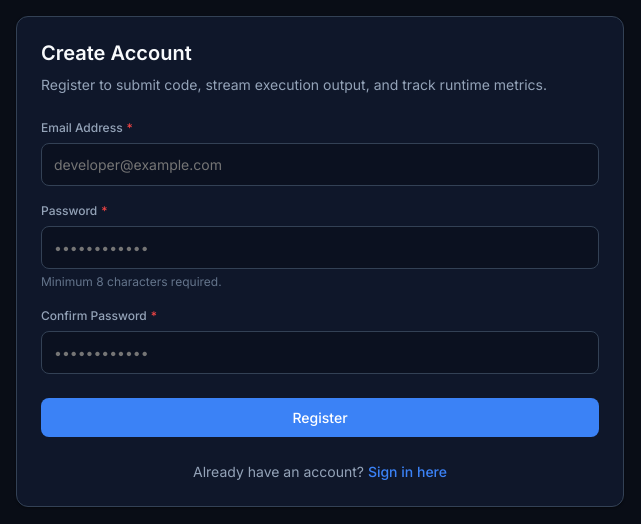
it: RegisterPage › validates password length >= 8 characters
The width and height of the screenshot is (641, 524).
In the field labelled "Email Address*": [320, 164] box left=41, top=143, right=599, bottom=186, type "user@example.com"
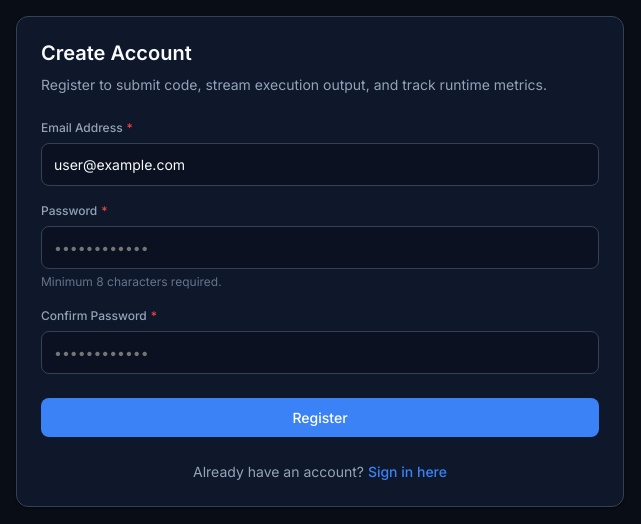
In the password field labelled "Password*": [320, 248] box left=41, top=226, right=599, bottom=269, type "short"
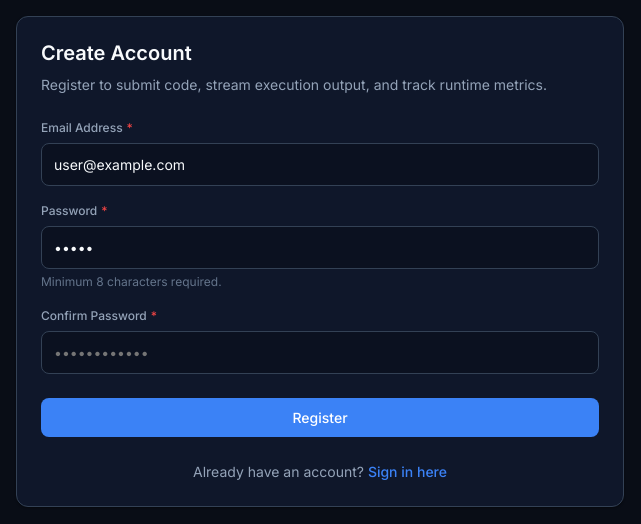
In the password field labelled "Confirm Password*": [320, 352] box left=41, top=331, right=599, bottom=374, type "short"
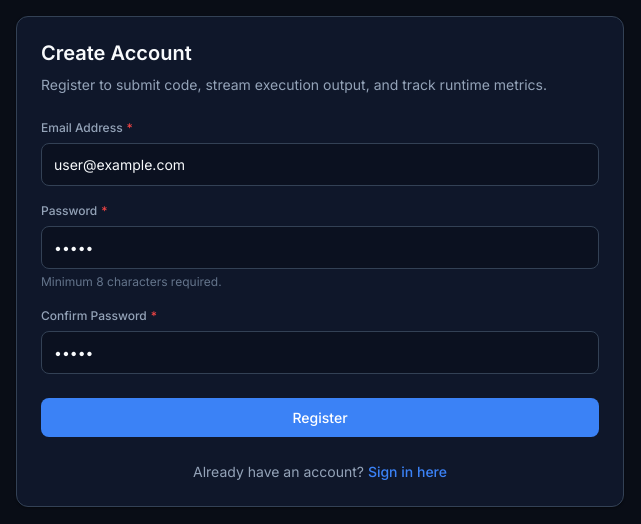
Click the button "Register": [320, 418] box left=41, top=398, right=599, bottom=437
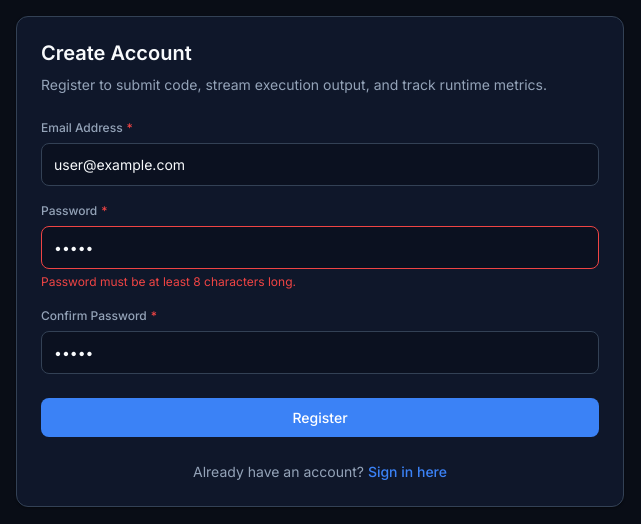
Now the text "Password must be at least 8 characters long." is shown, box left=41, top=274, right=296, bottom=289
